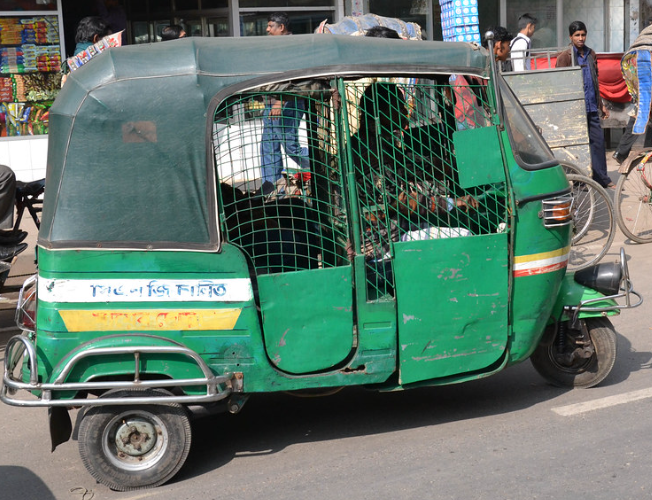cng: (11, 30, 627, 493)
